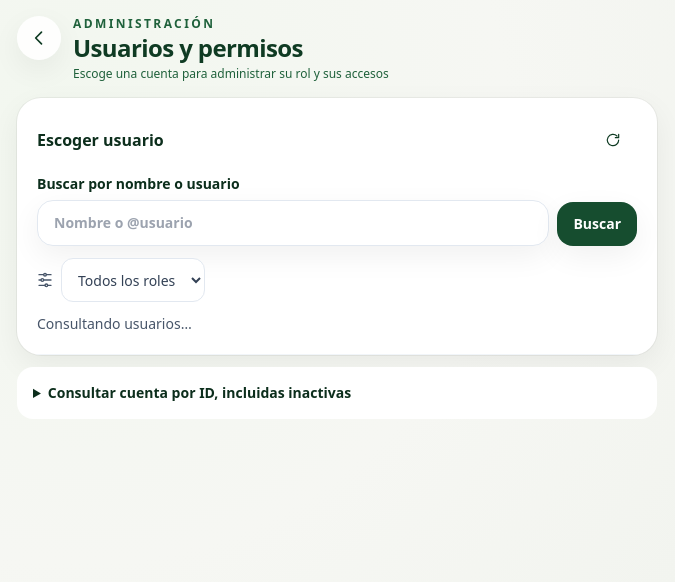
Test: Usuarios y permisos › los filtros limpian selección y descartan resultados tardíos de la búsqueda anterior
Type "Luis" into the field labelled "Buscar por nombre o usuario" at (293, 223), box top-left (37, 200), bottom-right (549, 246)
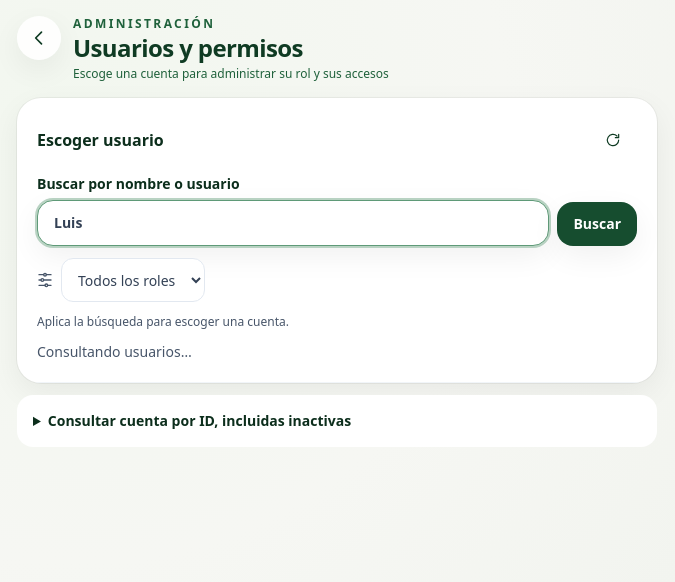
Select "Voluntario" in the dropdown named "Filtrar por rol" at (133, 280), box top-left (61, 258), bottom-right (205, 302)
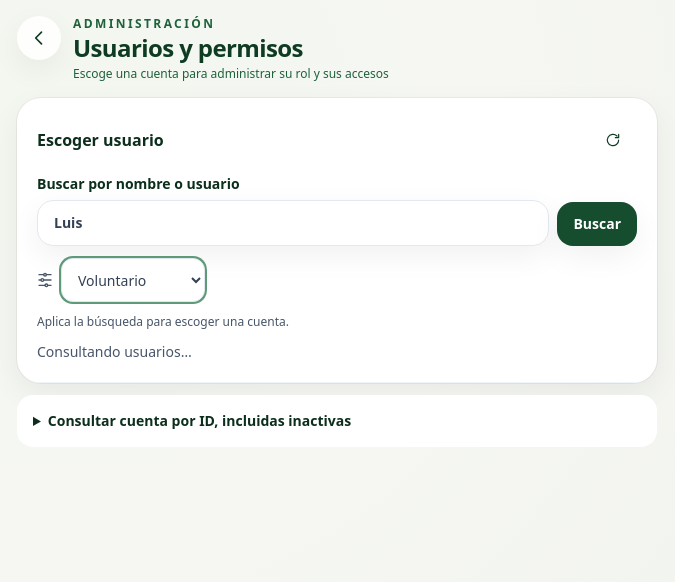
Click the button with aria-label "Buscar usuarios" at (597, 224), box top-left (557, 202), bottom-right (637, 246)
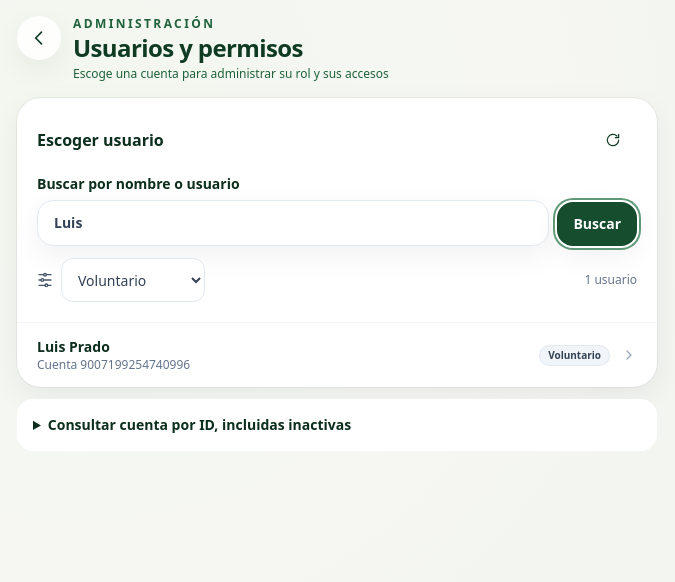
Check: the text "Luis Prado" is shown, box top-left (37, 337), bottom-right (110, 356)
Click the button with aria-label "Seleccionar a Luis Prado" at (73, 346), box top-left (17, 323), bottom-right (657, 387)
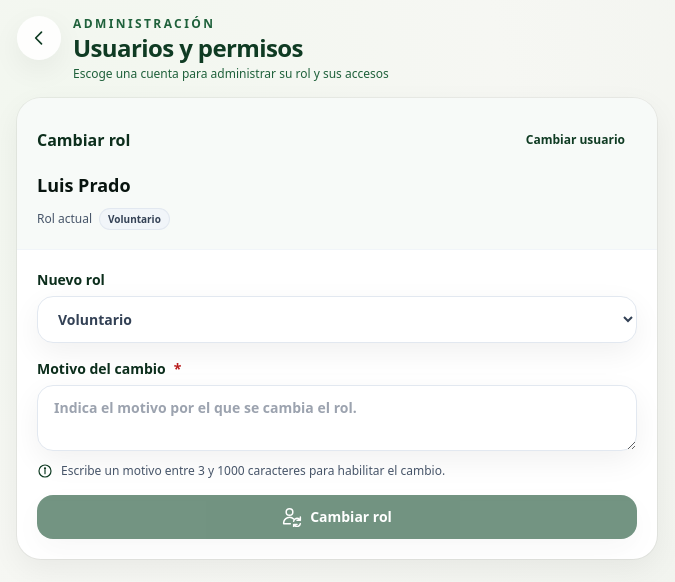
Check: the dropdown labelled "Nuevo rol" is shown, box top-left (37, 296), bottom-right (637, 342)
Click the button "Cambiar usuario" at (575, 140), box top-left (514, 118), bottom-right (637, 162)
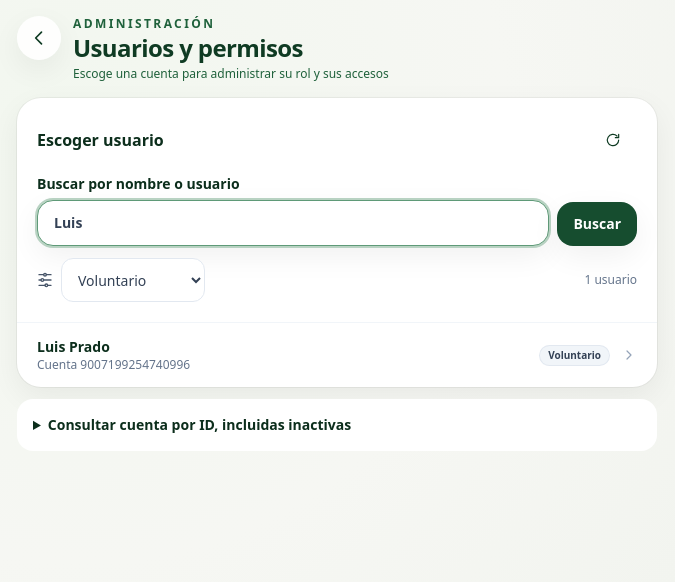
Type " nuevo" into the field labelled "Buscar por nombre o usuario" at (293, 223), box top-left (37, 200), bottom-right (549, 246)
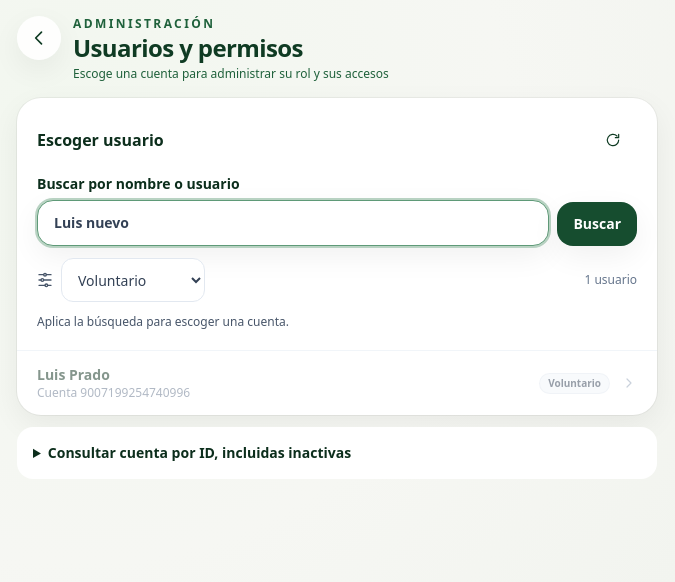
Check: the text labelled "Nuevo rol" is not shown
Check: the button with aria-label "Seleccionar a Luis Prado" is disabled, box top-left (17, 351), bottom-right (657, 415)
